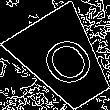O_SE: (29, 28, 99, 94)
